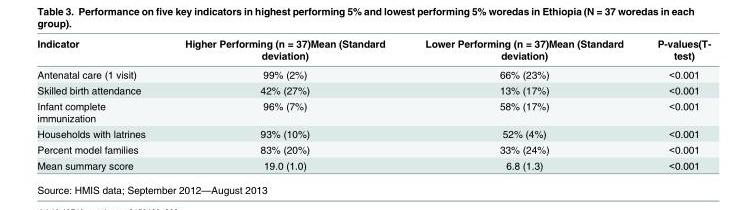table: (36, 37, 710, 170)
table column: (164, 37, 404, 170), (404, 37, 639, 170), (36, 37, 164, 170), (639, 37, 710, 170)
table column header: (36, 37, 710, 64)
table row: (36, 97, 710, 125), (36, 37, 710, 64), (36, 64, 710, 82), (36, 125, 710, 141), (36, 141, 710, 157), (36, 82, 710, 97), (36, 157, 710, 170)
